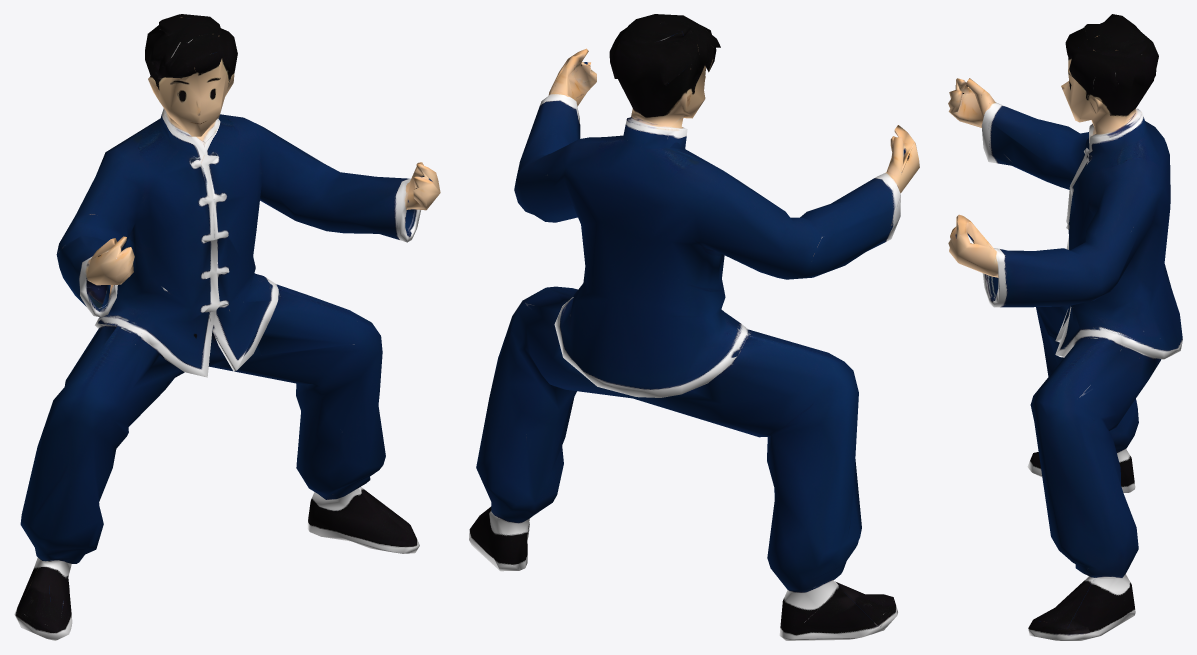
Rendered from taichi.glb.
3 renders of one model, left to right at view 1: azimuth 30°, elevation 25°; view 2: azimuth 150°, elevation 25°; view 3: azimuth 270°, elevation 25°, orthographic. The views are drawn at different scales.
Parts seen in each view (by area): view 1: Mesh1.0; view 2: Mesh1.0; view 3: Mesh1.0.
Boxes of the visible parts, box(x1,y1,x2,y2) form: Mesh1.0: box(14, 14, 440, 640); Mesh1.0: box(469, 14, 919, 640); Mesh1.0: box(948, 14, 1182, 640).
Bounding box in the file's own units: 0.3515 × 0.4771 × 0.1932.
Materials: 1 (1 with a texture image).
